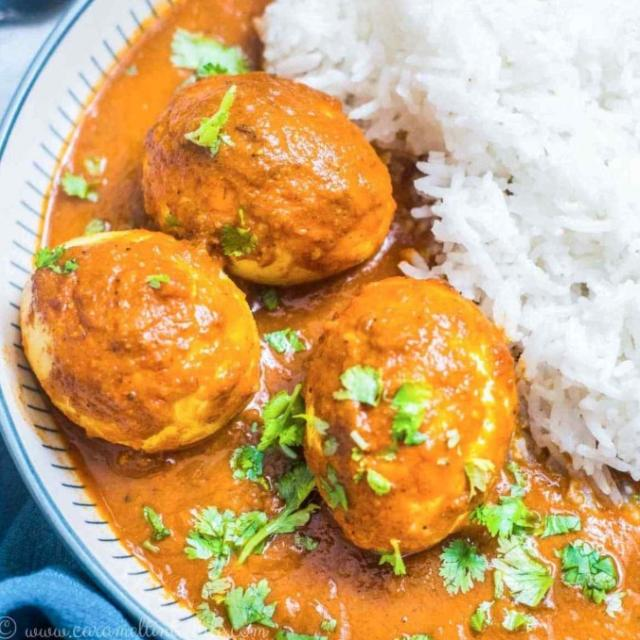EGG: (13, 17, 639, 639)
RICE: (258, 1, 639, 501)
